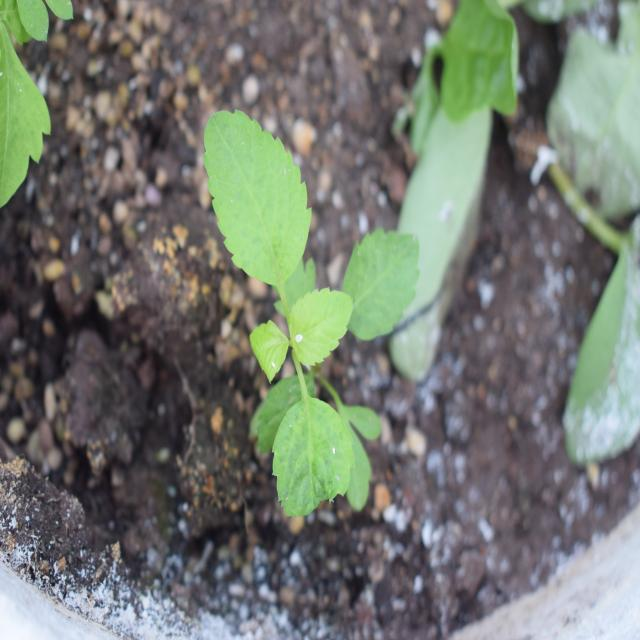Bidens pilosa: (180, 112, 417, 519)
